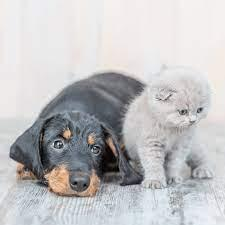cat: (128, 53, 221, 188)
dog: (13, 56, 130, 198)
